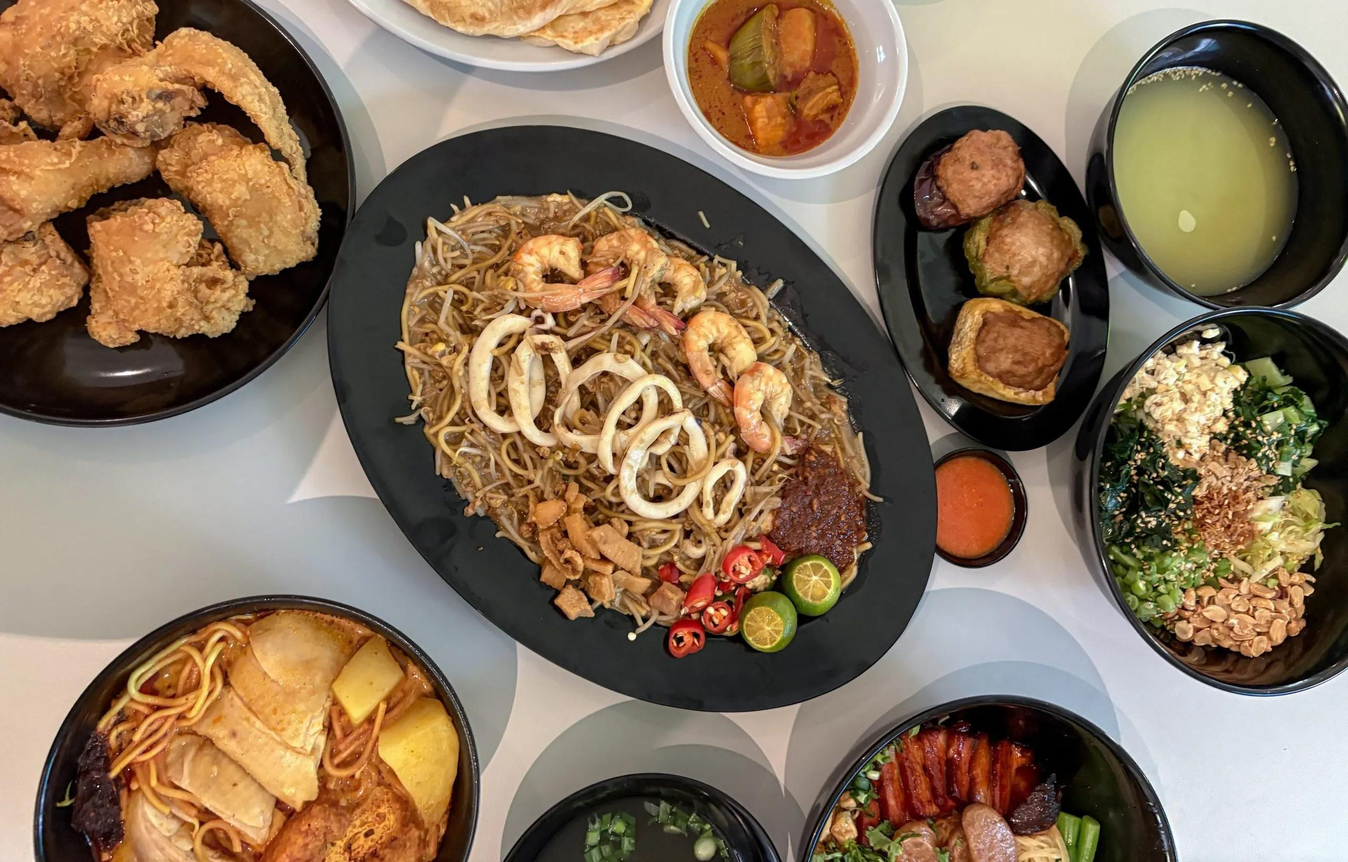Braised Crucian Carp: (349, 123, 853, 706), (0, 3, 353, 417), (23, 598, 482, 857), (1071, 313, 1348, 681), (885, 103, 1101, 450)
